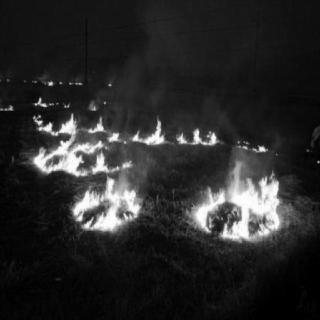Fire: (134, 116, 224, 147), (40, 77, 84, 86)
